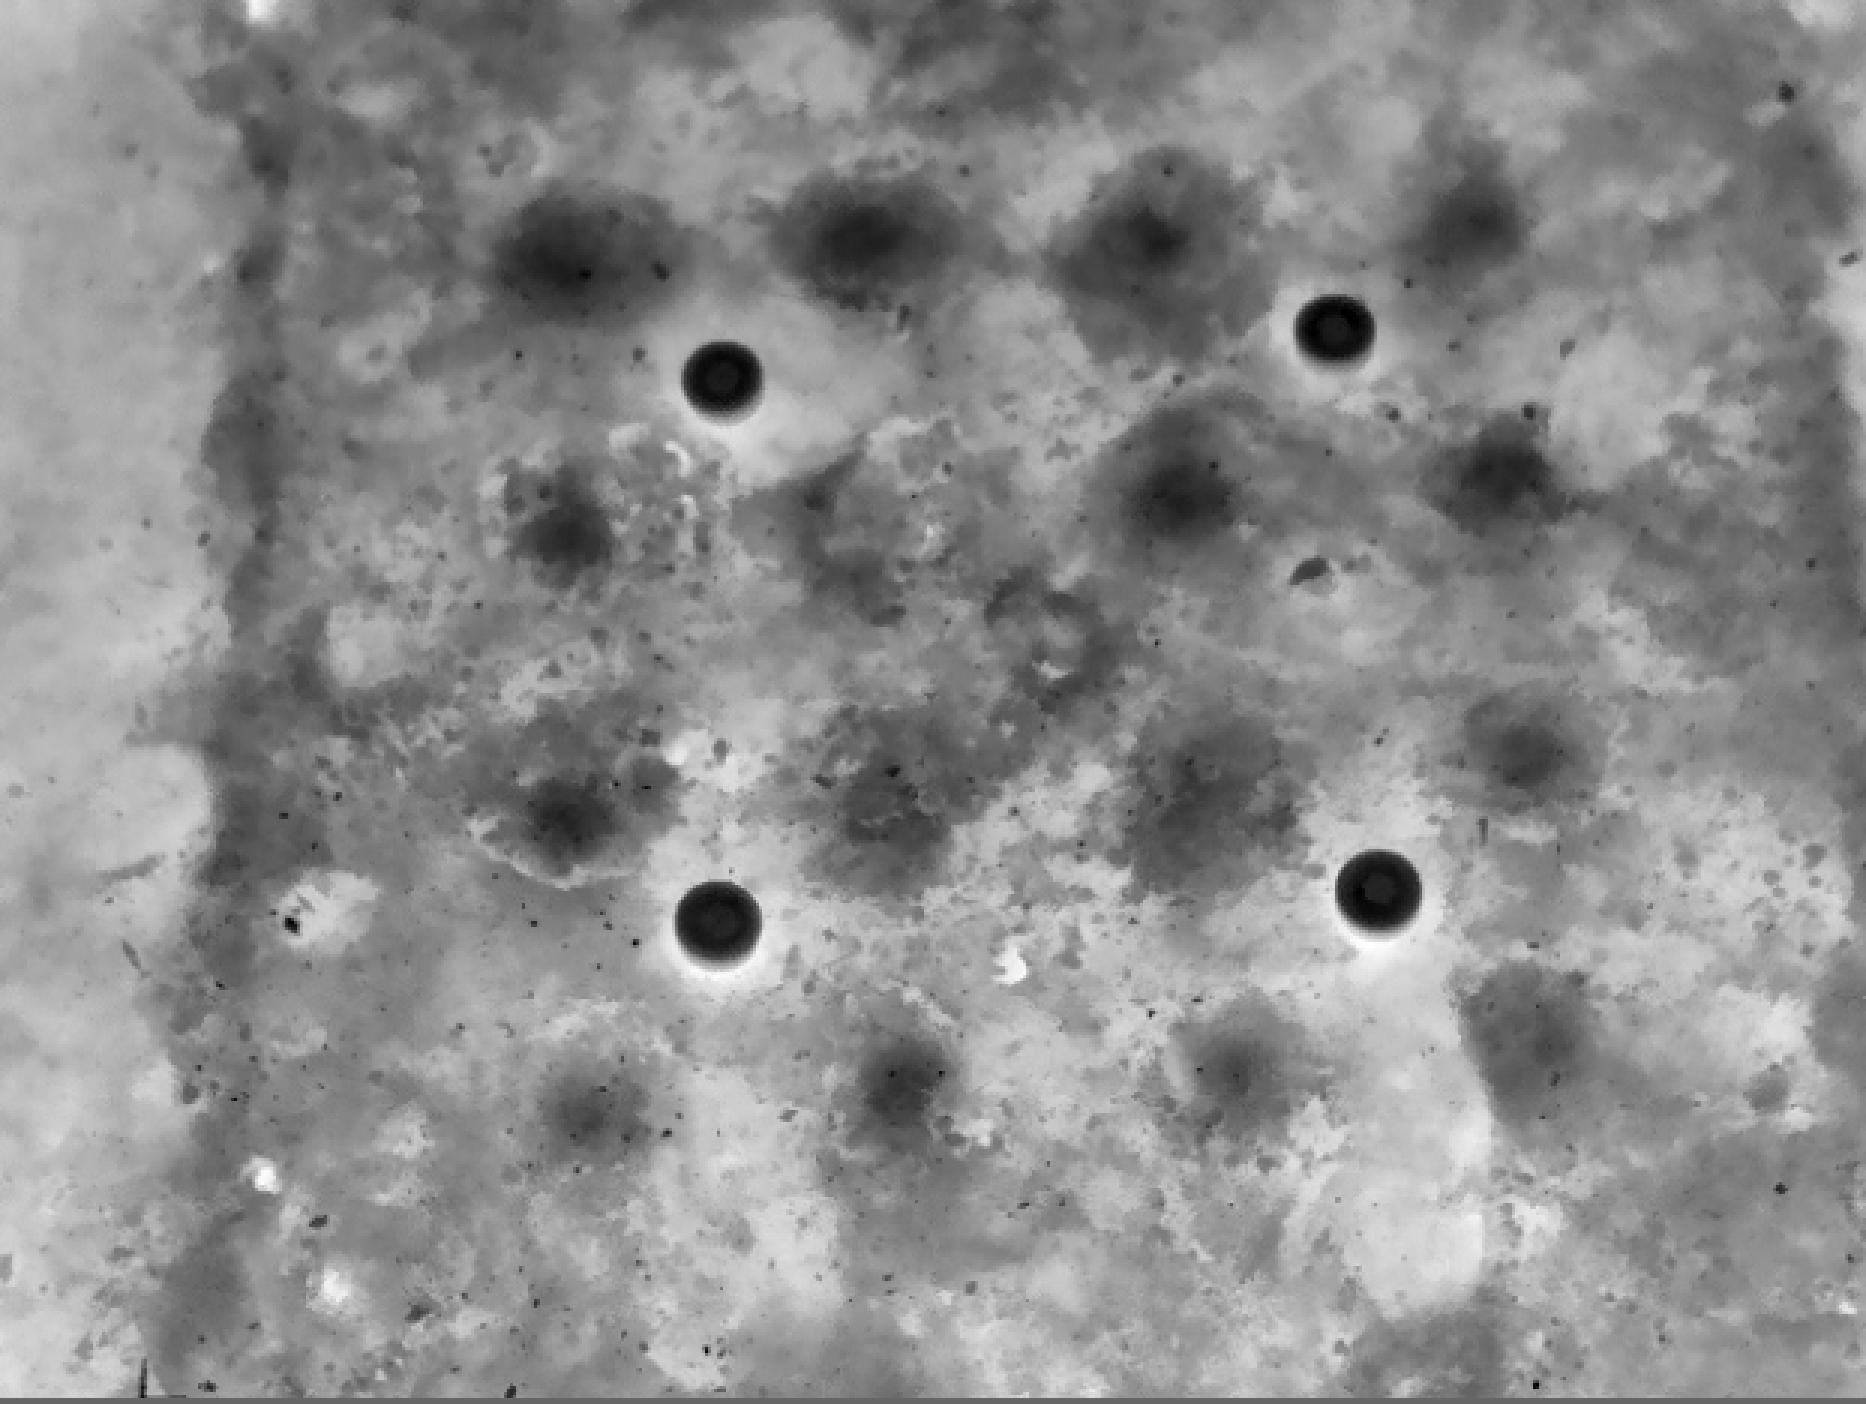mines-gjV8: (679, 875, 769, 965), (679, 342, 773, 411), (1332, 848, 1416, 922), (1295, 298, 1381, 363)
